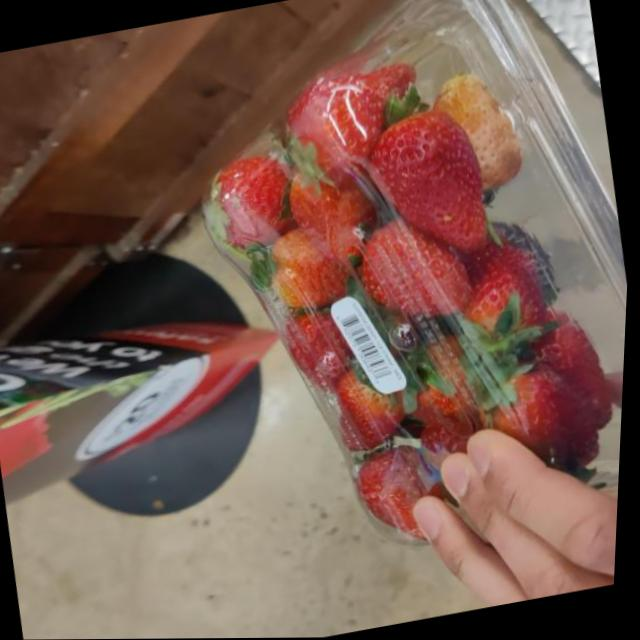Strawberries: (134, 0, 640, 615)
